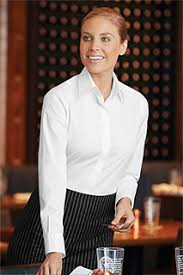F_shirt: (36, 67, 149, 259)
